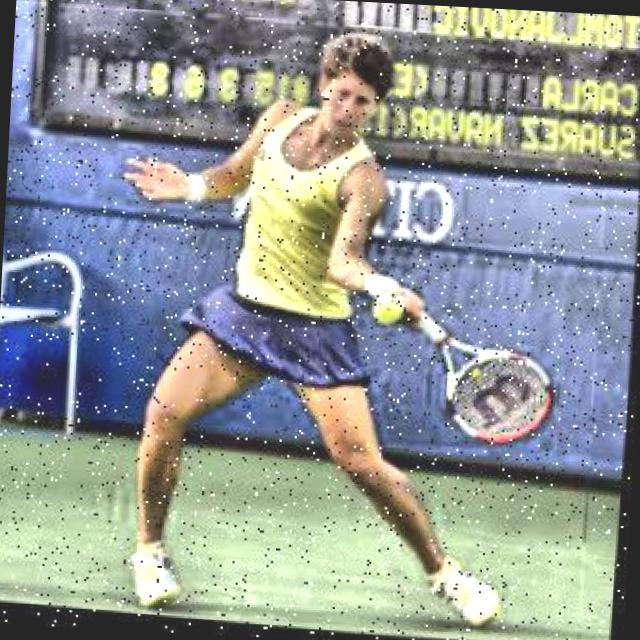Tennis Ball: (376, 295, 407, 324)
